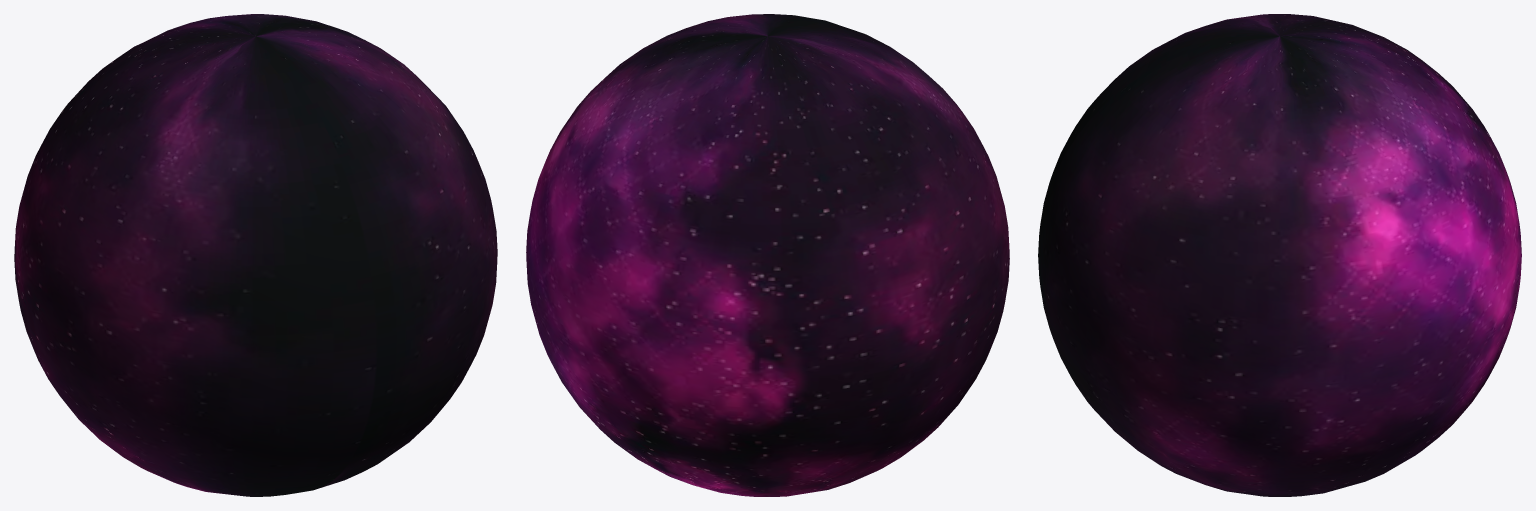
Rendered from soft_drink_dispenser_blend_v0_9_free.glb.
3 views of the same model, side by side, from view 1: azimuth 30°, elevation 25°; view 2: azimuth 150°, elevation 25°; view 3: azimuth 270°, elevation 25° (orthographic).
Parts seen in each view (by area): view 1: Sphere_7; view 2: Sphere_7; view 3: Sphere_7.
Boxes of the visible parts, x1,y1,x2,y2 form: Sphere_7: (14,14,497,496); Sphere_7: (526,14,1009,496); Sphere_7: (1038,14,1521,496).
Size of the model in its own units: 50.41 by 50.41 by 50.41.
Materials: 5 (4 with a texture image).
